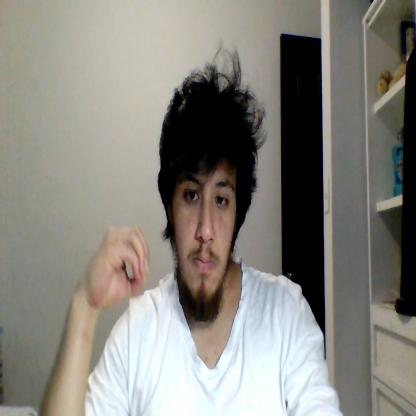O: (91, 224, 150, 308)
